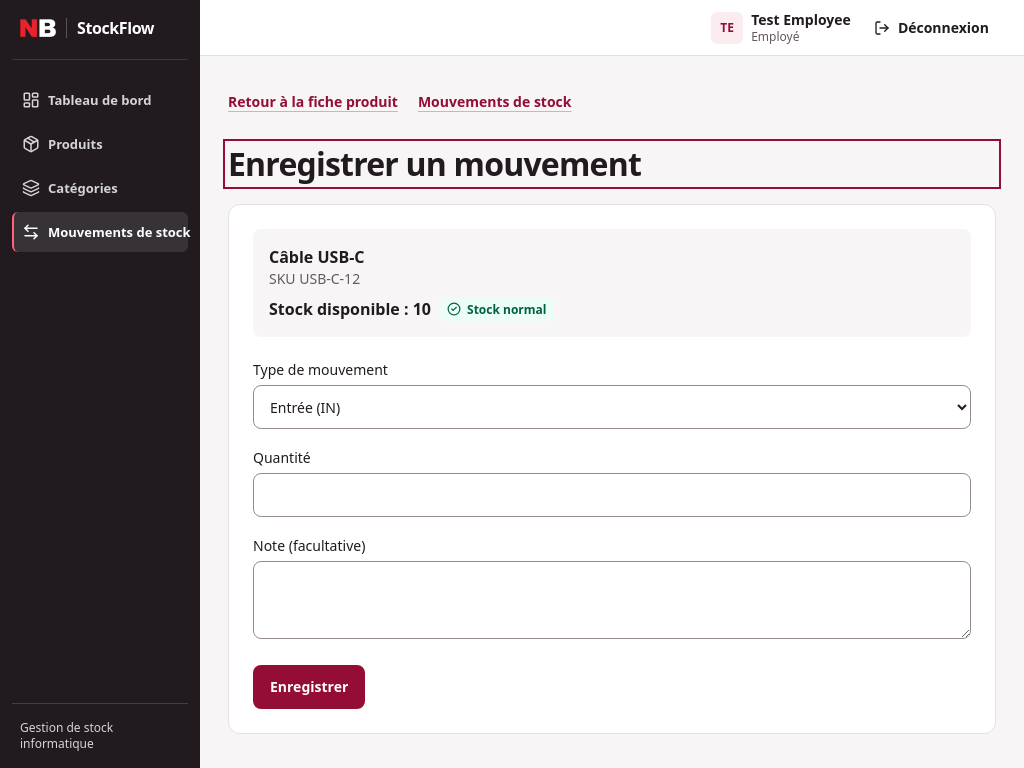
it: does not replay a stock movement rejected with HTTP 401
Type "3" into the field labelled "Quantité". click: coordinates (612, 495)
box: [253,473,971,517]
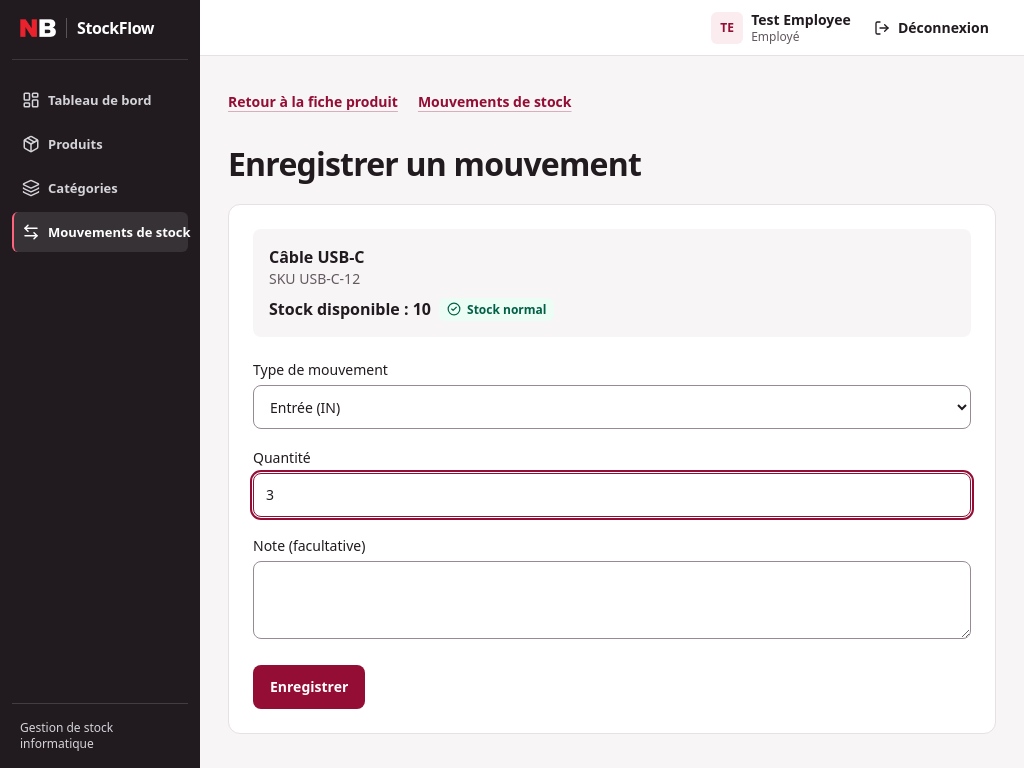
Click the button "Enregistrer". click: coordinates (309, 687)
box: [253,665,365,709]
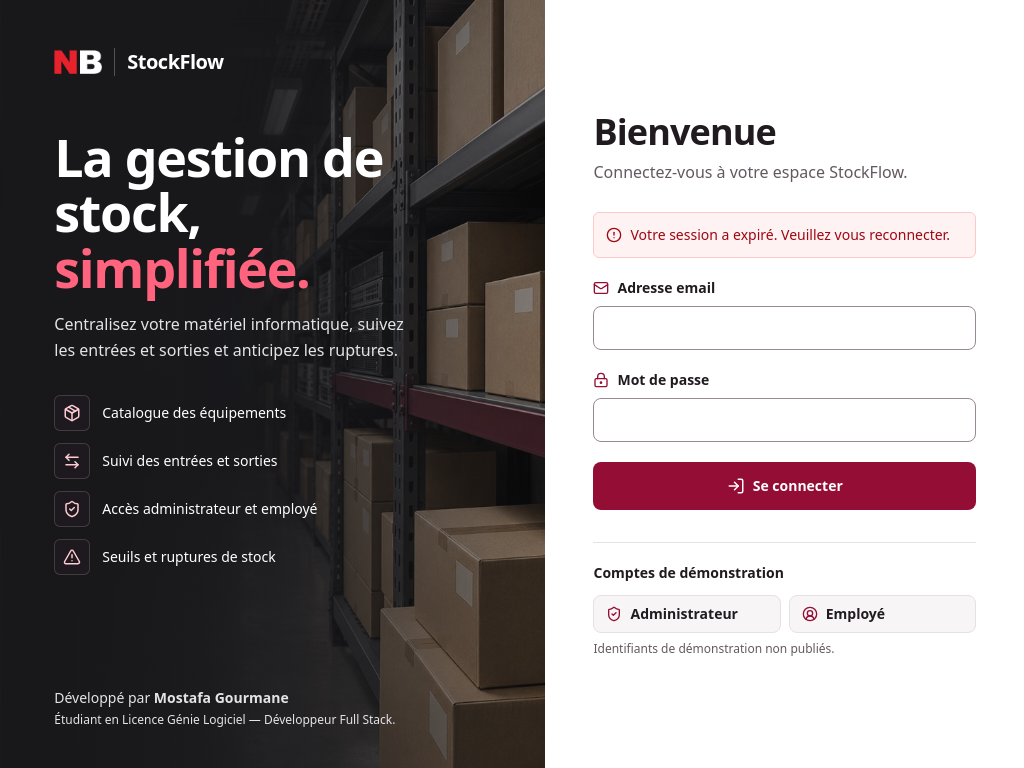
Result: the button "Se connecter" is shown at [594,462,976,510]
